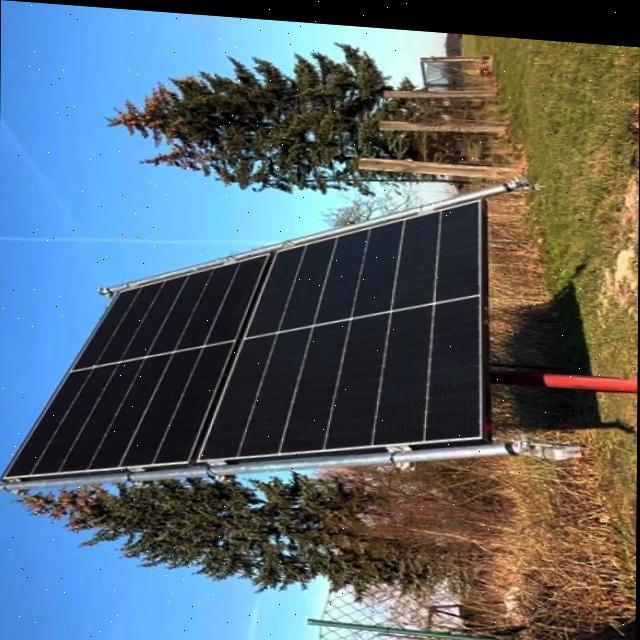Normal Solar Panel: (2, 163, 482, 507)
